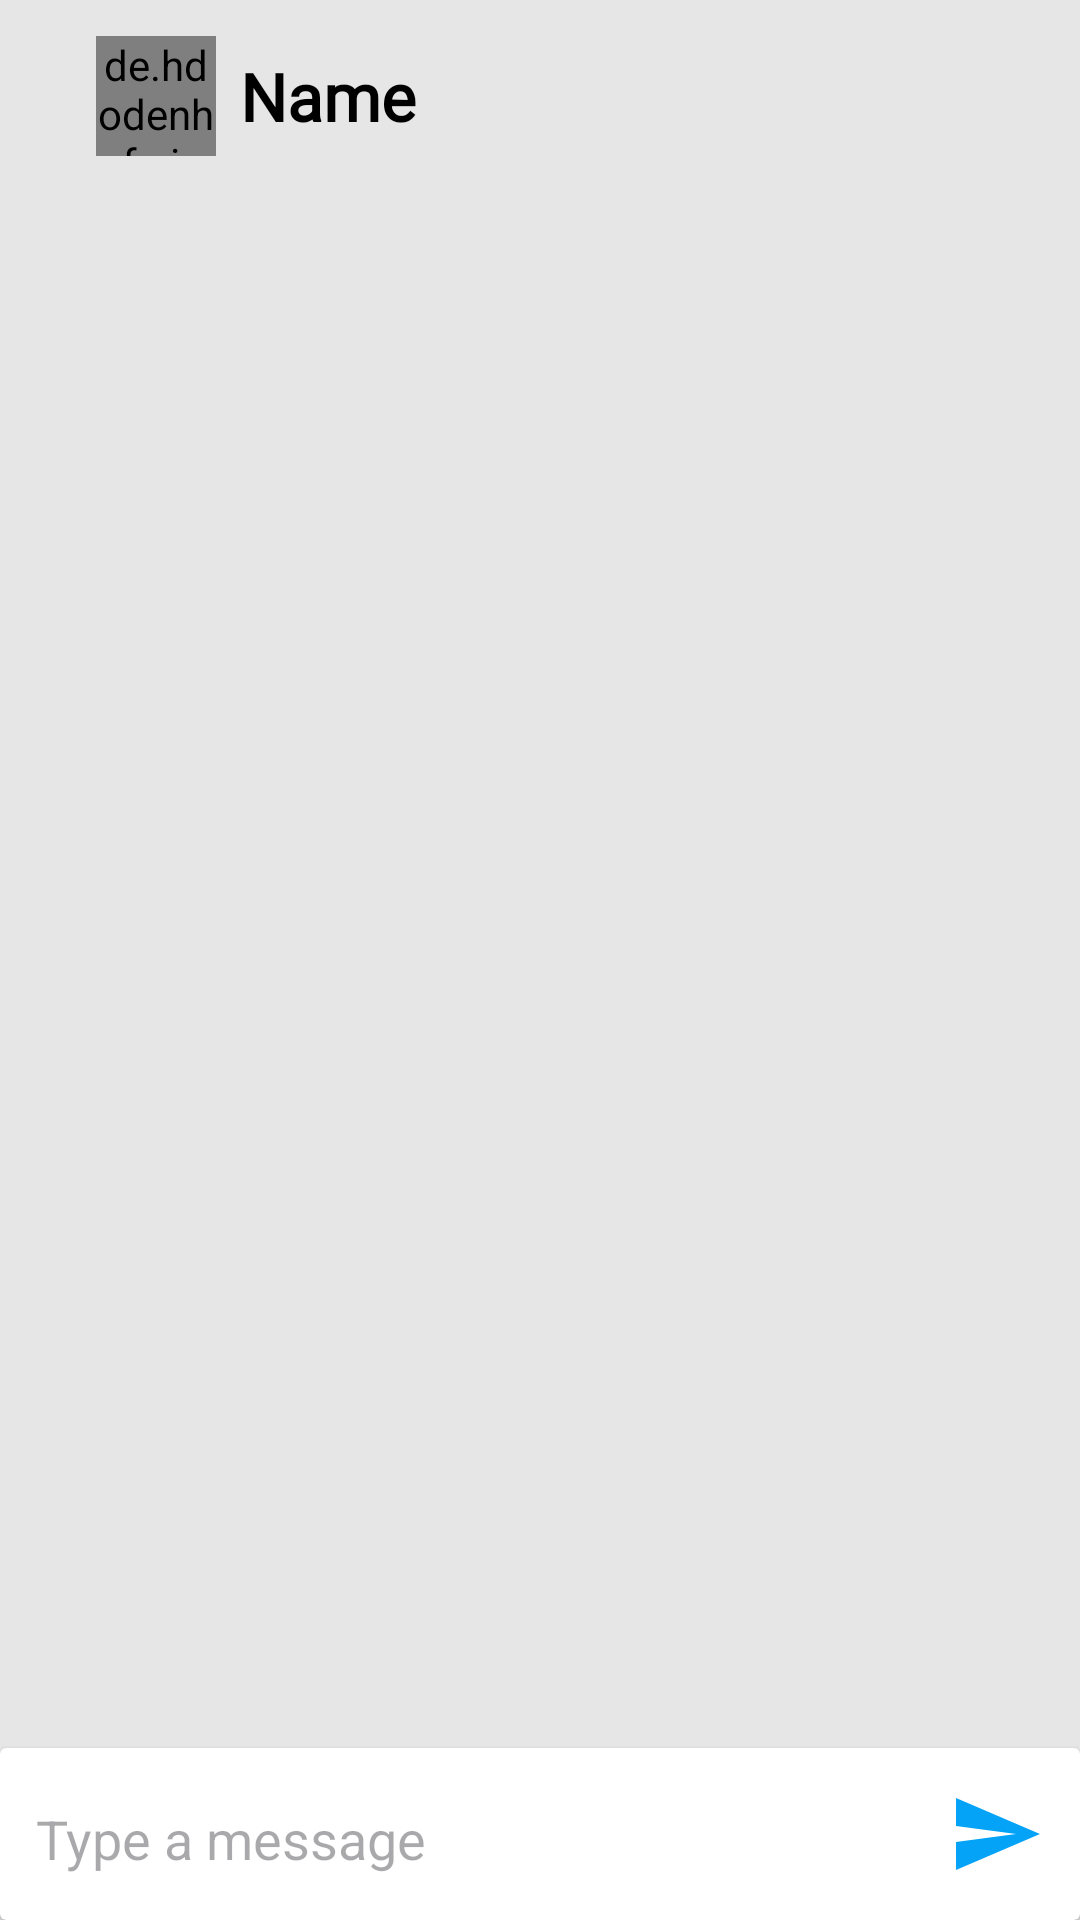

Locate icon controls on the screen. Image size 1080 x 1920, boxes as (x1, y1, x2, y2).
send: (956, 1798, 1040, 1870)
